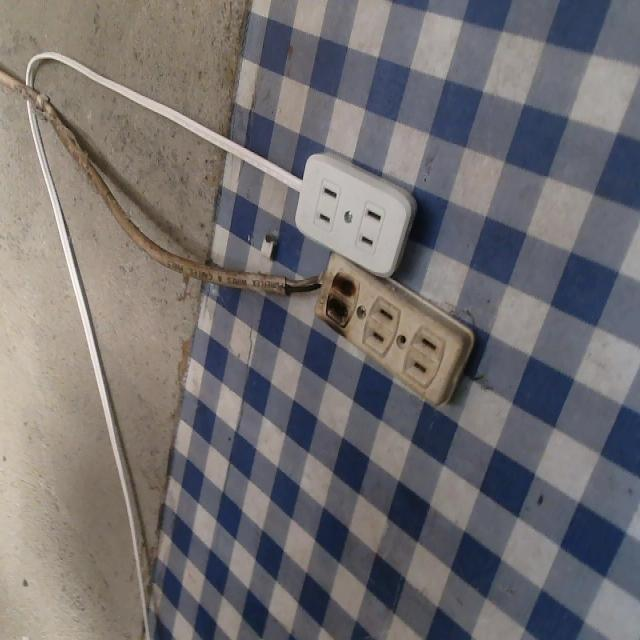-: (314, 260, 371, 343)
